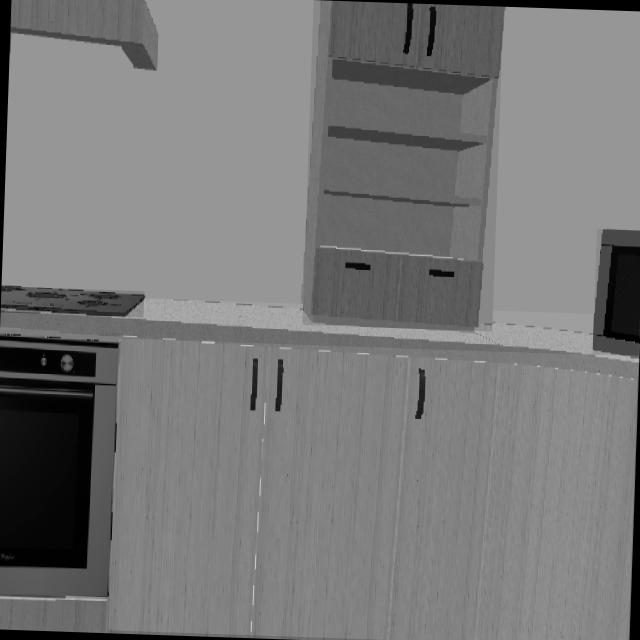cabinet: (109, 340, 637, 640), (303, 0, 503, 330)
countertop: (0, 298, 638, 377)
microwave: (593, 230, 640, 355)
oven: (0, 331, 119, 598)
stove: (1, 286, 144, 316)
